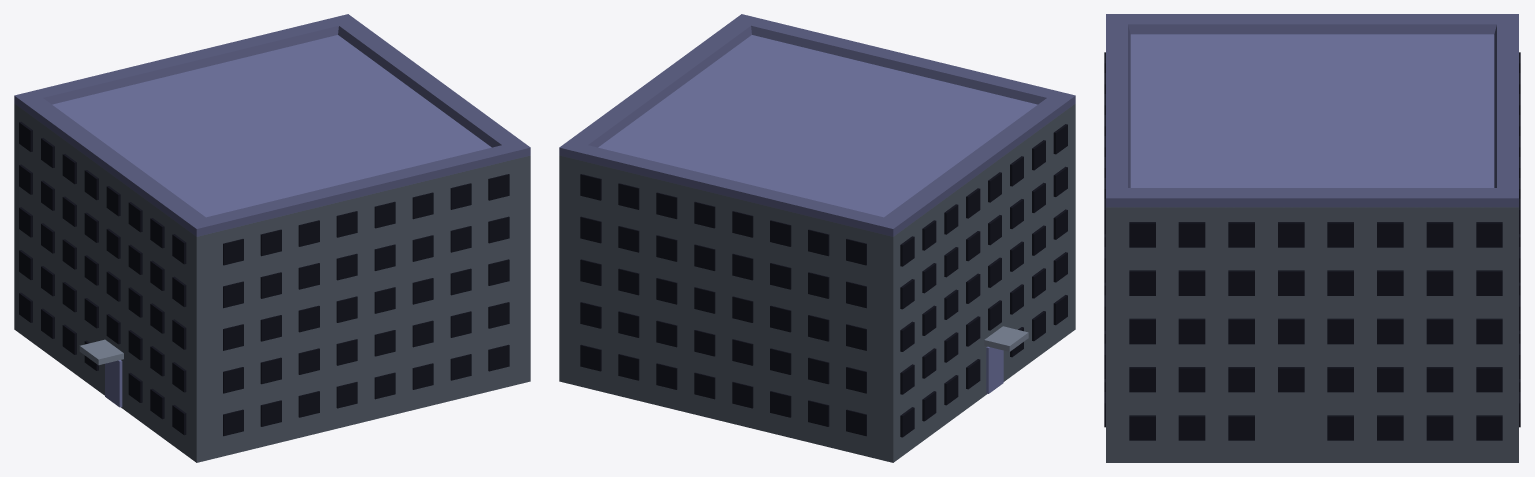
File: House5.fbx
The picture shows the model from 3 angles, left to right: view 1: azimuth 30°, elevation 25°; view 2: azimuth 150°, elevation 25°; view 3: azimuth 270°, elevation 25°; orthographic projection. The views are drawn at different scales.
Visible parts, largest first — view 1: House5; view 2: House5; view 3: House5.
Part boxes in pixels (bbox=[...]): House5: bbox=[14, 14, 530, 462]; House5: bbox=[559, 14, 1075, 462]; House5: bbox=[1104, 14, 1520, 462].
Bounding box in the file's own units: 1252 × 773 × 1102.
Materials: 1 (1 with a texture image).
